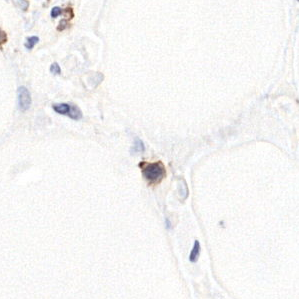Lymphocyte: (137, 158, 169, 189)
